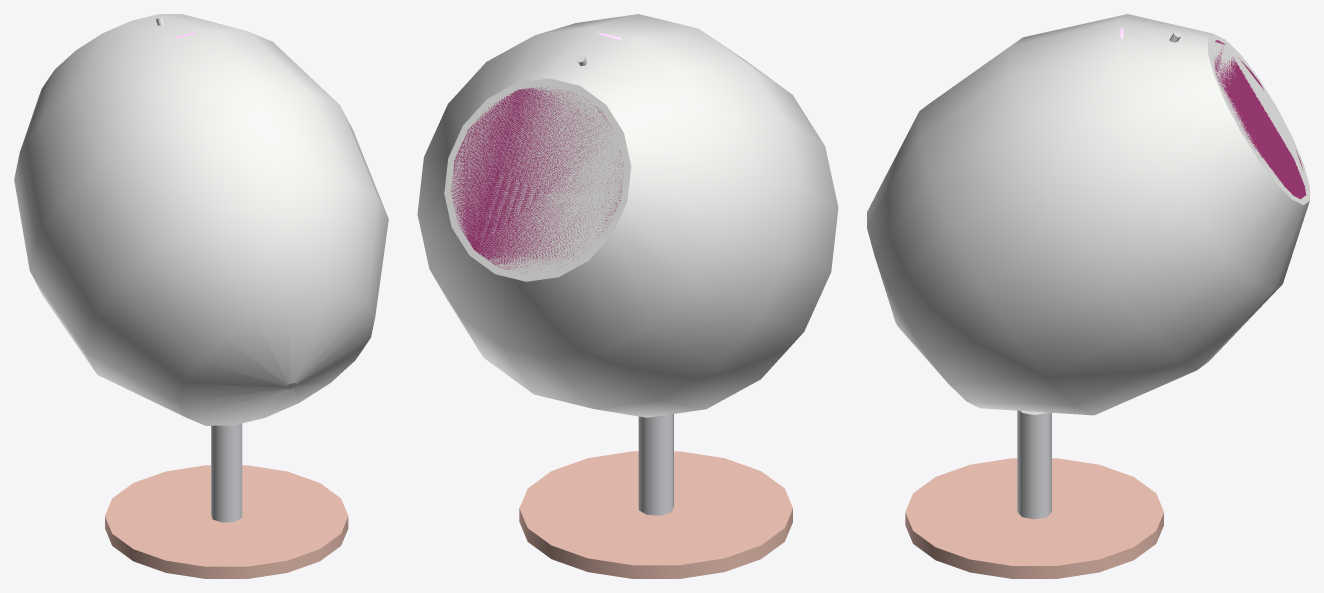
The model's file is ag_pod.glb.
3 views of the same model, side by side, from view 1: azimuth 30°, elevation 25°; view 2: azimuth 150°, elevation 25°; view 3: azimuth 270°, elevation 25° (orthographic). The views are drawn at different scales.
Visible parts, largest first — view 1: ag_pod; view 2: ag_pod; view 3: ag_pod.
Part boxes in pixels (x1,y1,x2,y2): ag_pod: [14, 14, 388, 578]; ag_pod: [417, 14, 838, 578]; ag_pod: [867, 14, 1309, 578].
Size of the model in its own units: 1.32 by 1.89 by 1.54.
